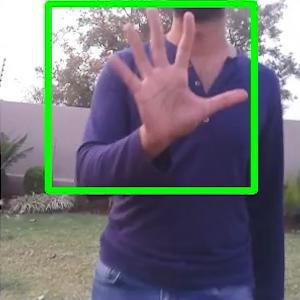follow_hand: (100, 3, 249, 149)
